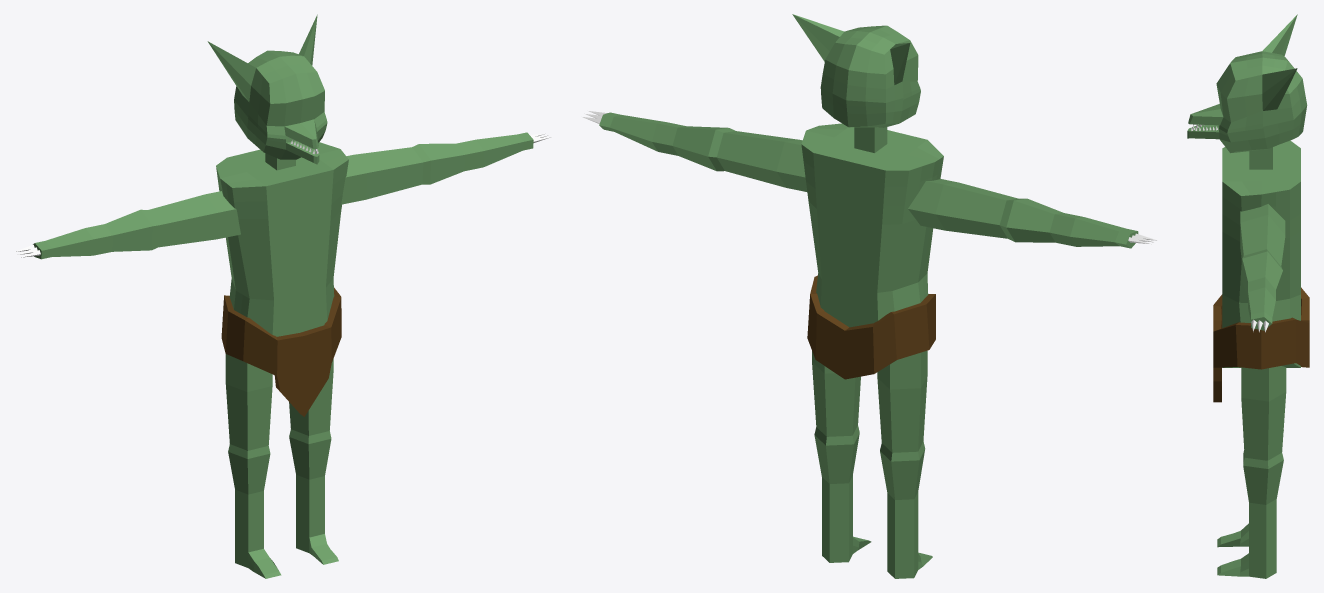
File: goblin.fbx
3 renders of one model, left to right at view 1: azimuth 30°, elevation 25°; view 2: azimuth 150°, elevation 25°; view 3: azimuth 270°, elevation 25°, orthographic. The views are drawn at different scales.
Parts seen in each view (by area): view 1: Cube, Cylinder, Cube.002, Cylinder.002, Cube.001, Cylinder.001; view 2: Cube, Cylinder, Cube.002, Cylinder.002, Cylinder.001, Cube.001; view 3: Cube, Cube.002, Cylinder, Cube.001, Cylinder.001.
Part boxes in pixels (bbox=[...]): Cube: bbox=[216, 142, 348, 336]; Cylinder: bbox=[225, 354, 338, 578]; Cube.002: bbox=[207, 14, 327, 164]; Cylinder.002: bbox=[33, 191, 240, 259]; Cube.001: bbox=[221, 287, 341, 416]; Cylinder.001: bbox=[341, 132, 533, 204]; Cube: bbox=[801, 123, 943, 365]; Cylinder: bbox=[812, 350, 932, 578]; Cube.002: bbox=[792, 14, 920, 127]; Cylinder.002: bbox=[908, 179, 1138, 248]; Cylinder.001: bbox=[599, 112, 807, 191]; Cube.001: bbox=[807, 275, 935, 379]; Cube: bbox=[1222, 140, 1300, 367]; Cube.002: bbox=[1187, 14, 1307, 153]; Cylinder: bbox=[1217, 366, 1286, 578]; Cube.001: bbox=[1213, 287, 1309, 402]; Cylinder.001: bbox=[1240, 204, 1285, 330].
Size of the model in its own units: 371 by 342 by 73.32.
